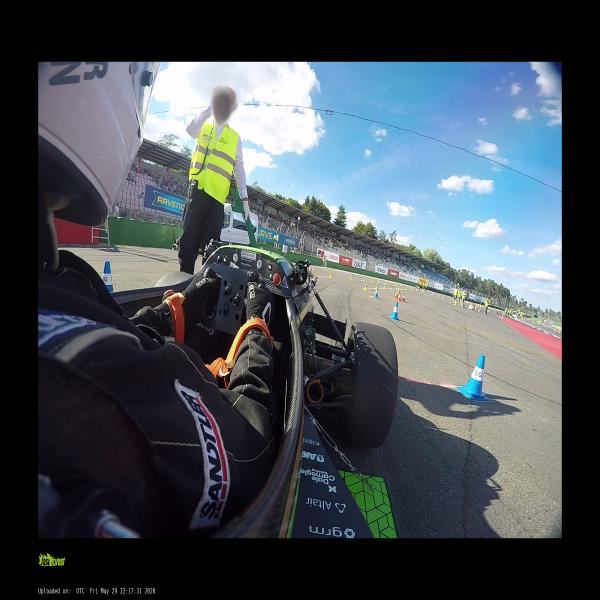blue_cone: (463, 354, 487, 399), (102, 261, 113, 292), (389, 301, 399, 321), (374, 288, 379, 298)
orange_cone: (402, 293, 405, 302)
yellow_cone: (364, 282, 368, 292), (329, 271, 332, 278), (375, 282, 378, 289), (350, 275, 352, 280), (362, 276, 364, 281), (372, 278, 374, 283), (384, 284, 386, 289), (442, 296, 444, 300), (438, 294, 440, 298), (449, 298, 451, 301)
